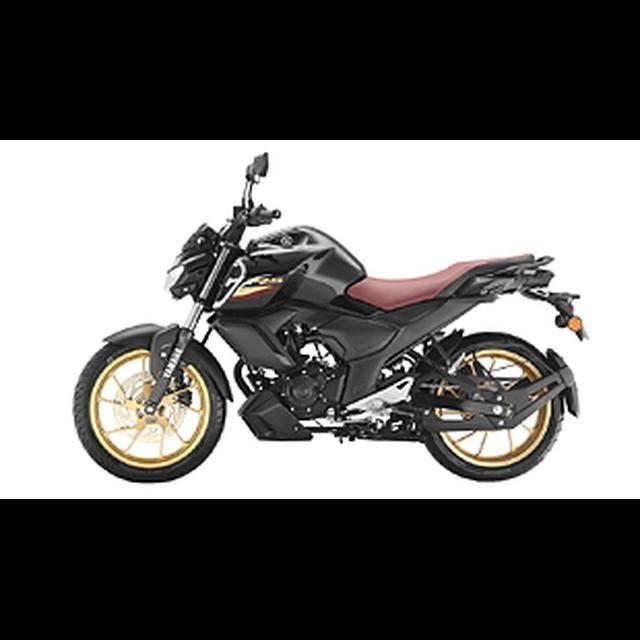motorcycle: (71, 147, 590, 485)
